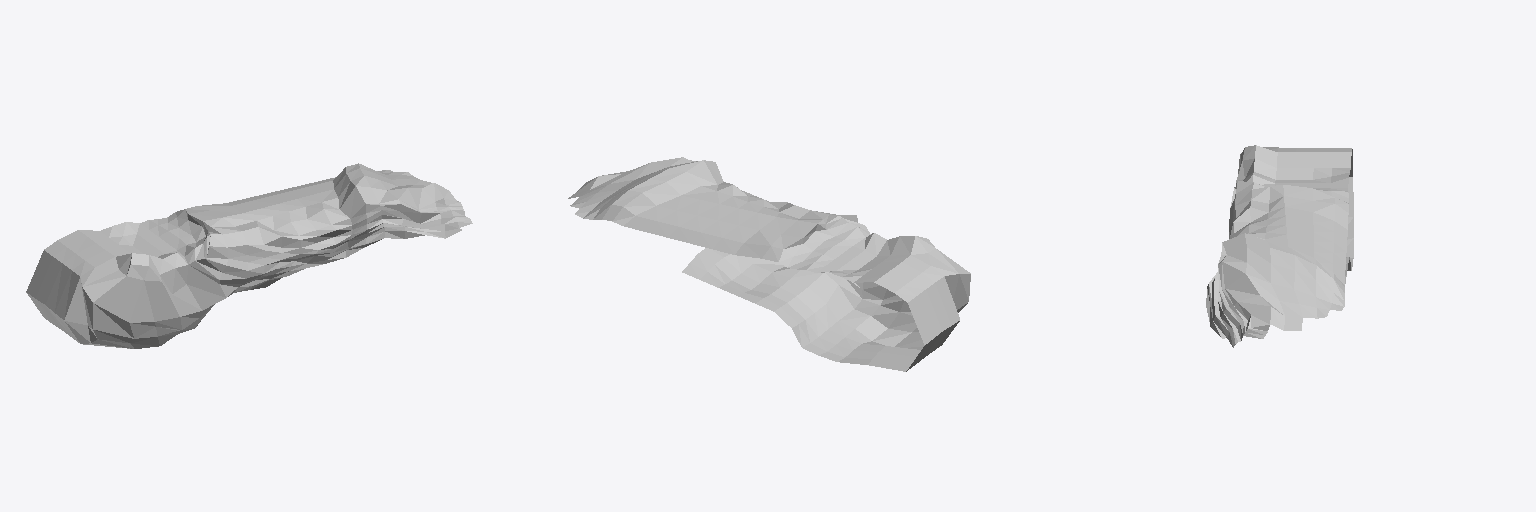
File: Platform01.obj
3 renders of one model, left to right at view 1: azimuth 30°, elevation 25°; view 2: azimuth 150°, elevation 25°; view 3: azimuth 270°, elevation 25°, orthographic.
Visible parts, largest first — view 1: Cube.004_Cube.010; view 2: Cube.004_Cube.010; view 3: Cube.004_Cube.010.
Part boxes in pixels (x1,y1,x2,y2): Cube.004_Cube.010: (26, 163, 472, 348); Cube.004_Cube.010: (568, 157, 970, 371); Cube.004_Cube.010: (1206, 145, 1353, 347).
Bounding box in the file's own units: 9.34 × 2.91 × 3.1.